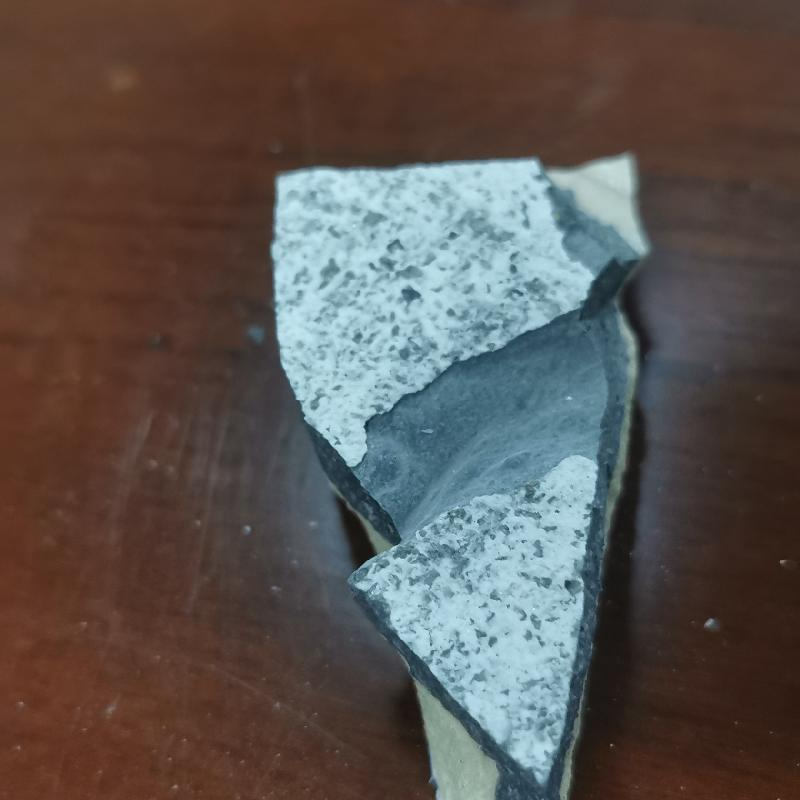tile: (265, 148, 654, 800)
